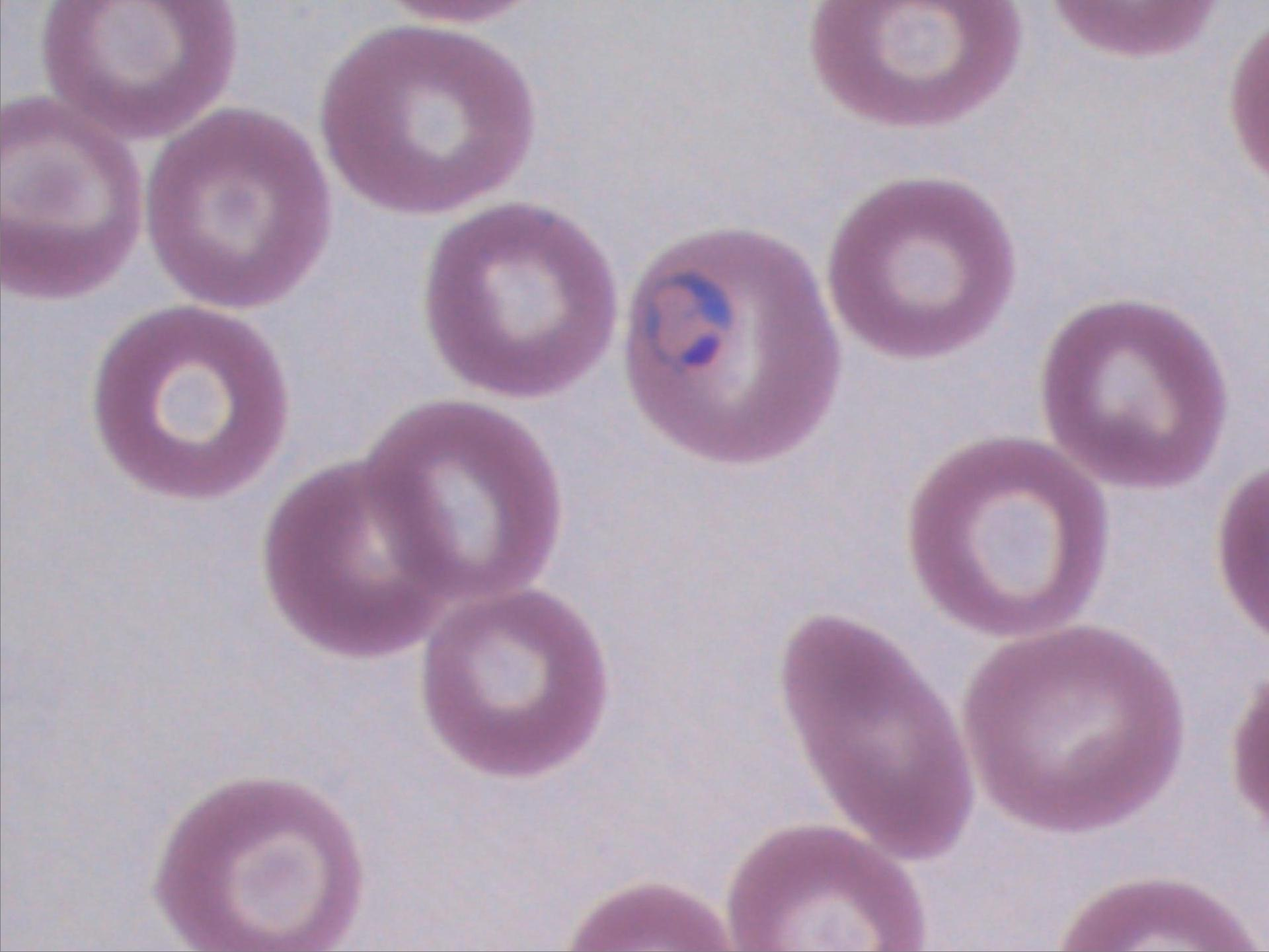Infected: (626, 223, 842, 463)
Uninfected: (787, 615, 976, 856), (963, 628, 1183, 830), (910, 439, 1113, 632), (372, 399, 560, 601), (93, 311, 291, 501), (425, 201, 615, 397), (326, 25, 530, 207), (269, 470, 460, 658), (145, 104, 322, 304), (159, 778, 357, 952), (1042, 302, 1227, 486), (423, 589, 601, 776), (831, 184, 1013, 360), (0, 100, 144, 297), (809, 0, 1020, 131), (42, 0, 226, 147), (729, 822, 928, 952)
